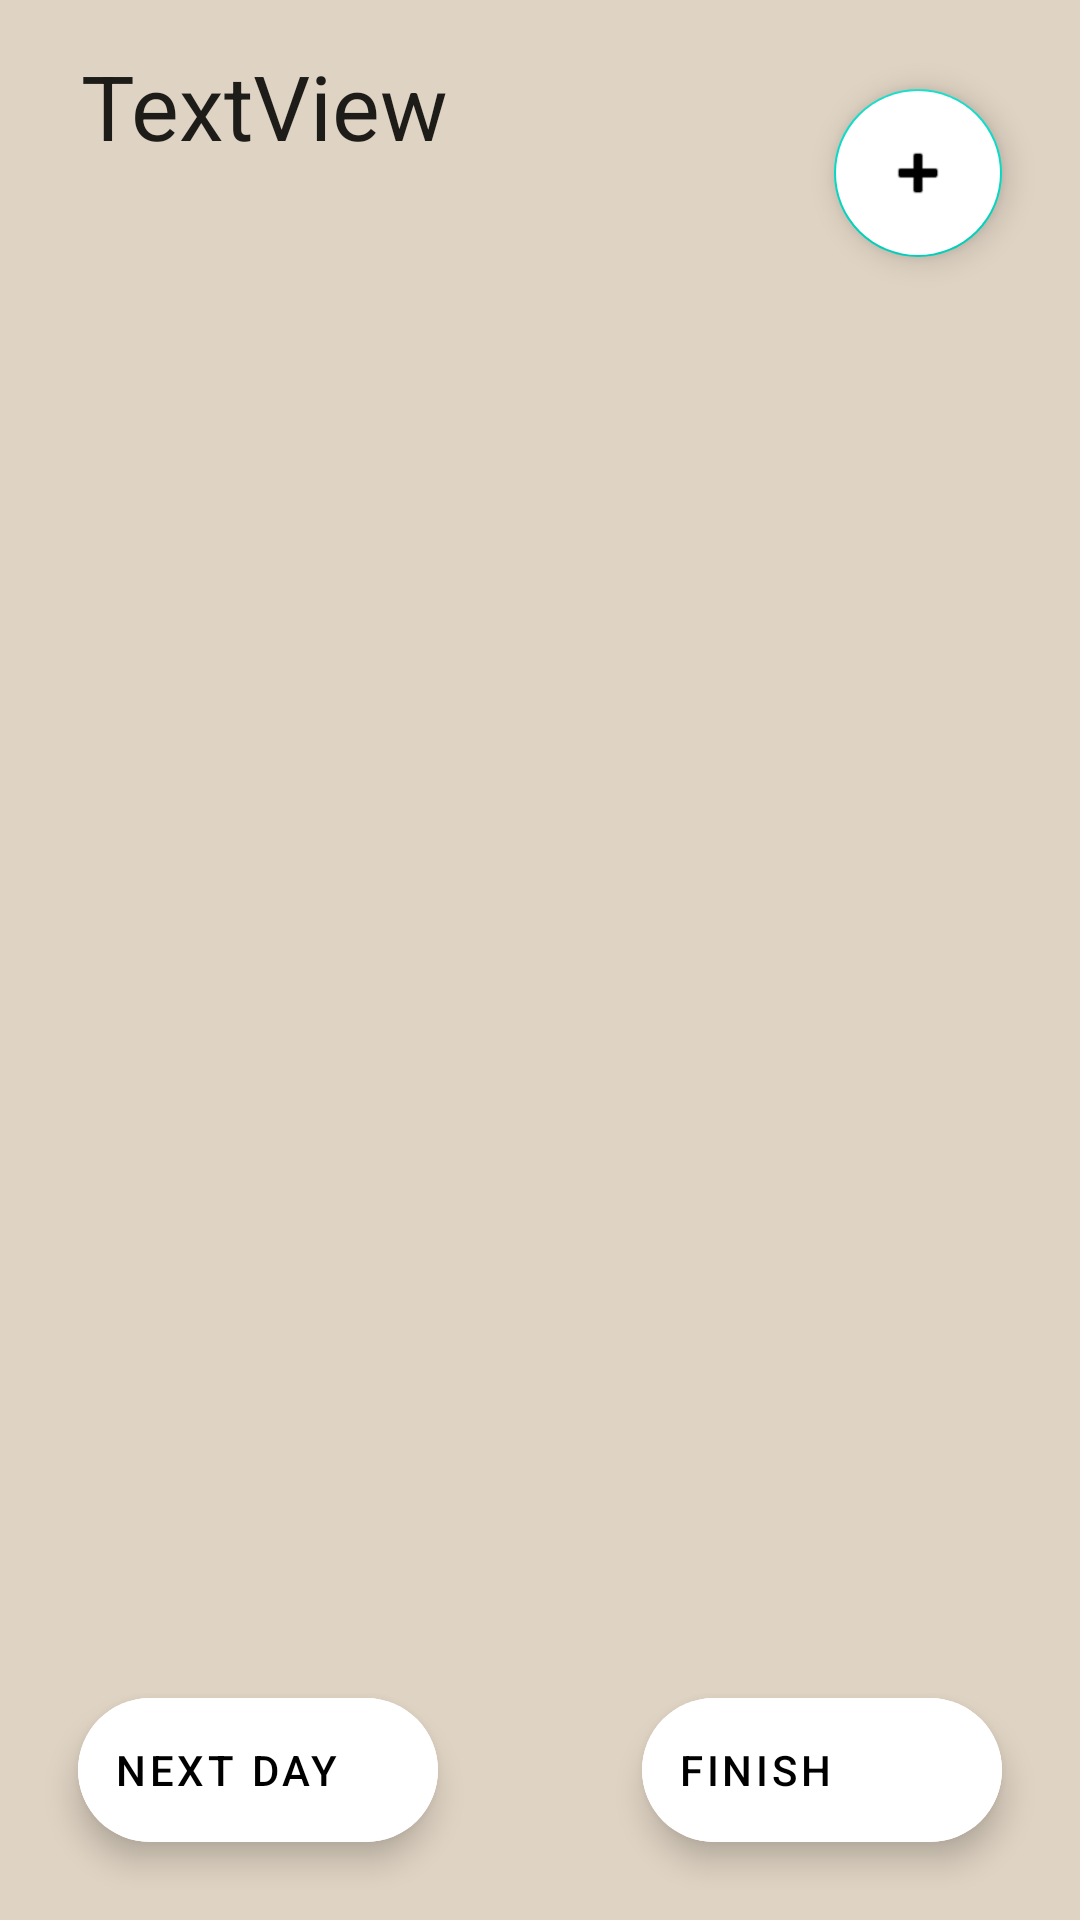

Icon click points for this 1080×1920 phone screenshot, format (x,y):
add: (918,173)
